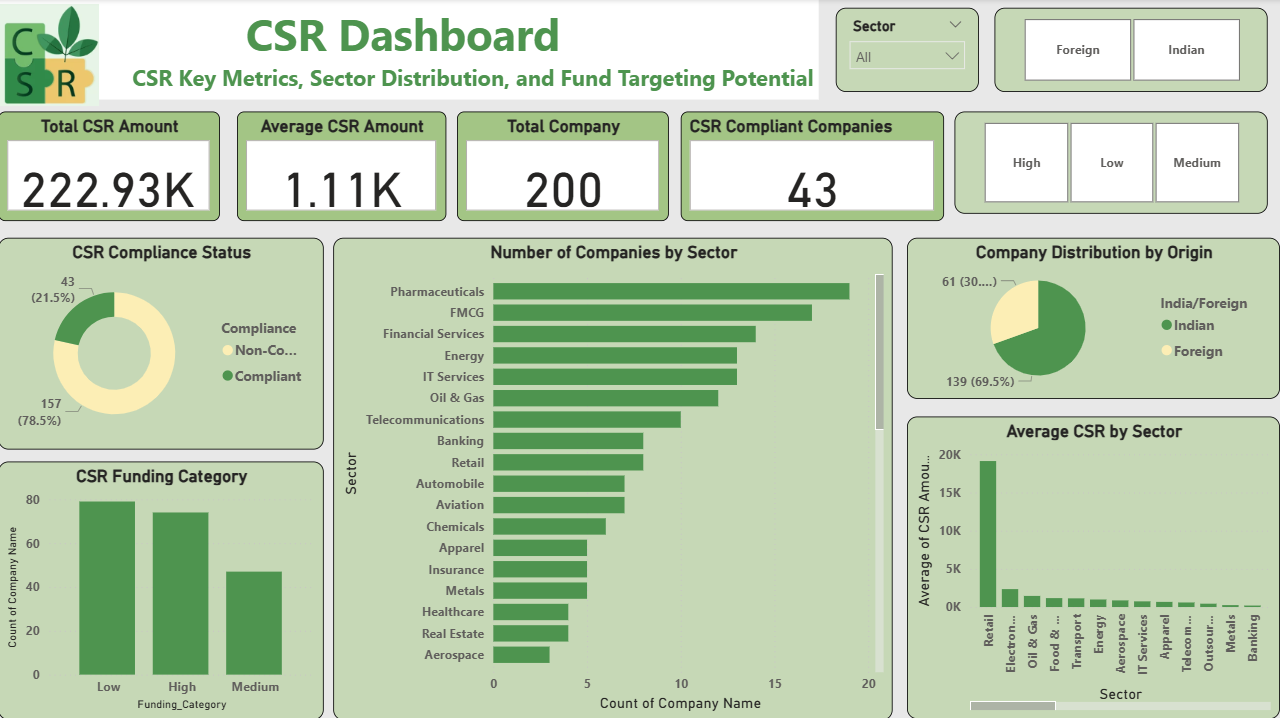

This screenshot's page, from the dashboard's own definition file:
{"tool":"powerbi","page":{"name":"Page 1","canvas":[1280,720],"ordinal":0},"visuals":[{"type":"textbox","box":[0,0,813.7,98.8],"z":0},{"type":"cardVisual","title":"Total CSR Amount","fields":{"Data":["Sum(Sheet1.CSR Amount)"]},"box":[11,109.8,216.8,107],"z":1000},{"type":"cardVisual","title":"Average CSR Amount","fields":{"Data":["Avg(Sheet1.CSR Amount)"]},"box":[244.3,109.8,204.5,107],"z":2000},{"type":"cardVisual","title":"Total Company","fields":{"Data":["CountNonNull(Sheet1.Company Name)"]},"box":[459.7,109.8,207.2,107],"z":3000},{"type":"cardVisual","title":"CSR Compliant Companies","fields":{"Data":["Sum(Sheet1.CSR_Compliance_Status)"]},"box":[679.2,109.8,258,107],"z":4000},{"type":"pieChart","title":"Company Distribution by Origin","fields":{"Y":["CountNonNull(Sheet1.Company Name)"],"Category":["Sheet1.Company_Type"]},"box":[900.2,233.3,365,157.8],"z":5000},{"type":"donutChart","title":"CSR Compliance Status","fields":{"Y":["CountNonNull(Sheet1.Company Name)"],"Category":["Sheet1.Compliance"]},"box":[11,233.3,318.4,207.2],"z":6000},{"type":"clusteredBarChart","title":"Number of Companies by Sector","fields":{"Category":["Sheet1.Sector"],"Y":["CountNonNull(Sheet1.Company Name)"]},"box":[338.9,233.3,547.5,472],"z":7000},{"type":"clusteredColumnChart","title":"CSR Funding Category","fields":{"Category":["Sheet1.Funding_Category"],"Y":["CountNonNull(Sheet1.Company Name)"]},"box":[11,452.8,318.4,252.5],"z":8000},{"type":"clusteredColumnChart","title":"Average CSR  by Sector","fields":{"Category":["Sheet1.Sector"],"Y":["Avg(Sheet1.CSR Amount)"]},"box":[900.2,408.9,365,296.4],"z":9000},{"type":"slicer","fields":{"Values":["Sheet1.Sector"]},"box":[830.2,8.2,140,82.3],"z":10000},{"type":"slicer","fields":{"Values":["Sheet1.Company_Type"]},"box":[985.3,8.2,267.6,82.3],"z":11000},{"type":"slicer","fields":{"Values":["Sheet1.Funding_Category"]},"box":[946.8,109.8,306,100.2],"z":12000},{"type":"image","box":[0,0,119.4,109.8],"z":13000}]}

Visuals, with their boxes in screenshot pixels (x1, y1, x2, y2), scaled from the page's 1280x720 canvas onto the 1280x718 screenshot:
textbox: box(0, 0, 814, 99)
"Total CSR Amount" cardVisual: box(11, 109, 228, 216)
"Average CSR Amount" cardVisual: box(244, 109, 449, 216)
"Total Company" cardVisual: box(460, 109, 667, 216)
"CSR Compliant Companies" cardVisual: box(679, 109, 937, 216)
"Company Distribution by Origin" pieChart: box(900, 233, 1265, 390)
"CSR Compliance Status" donutChart: box(11, 233, 329, 439)
"Number of Companies by Sector" clusteredBarChart: box(339, 233, 886, 703)
"CSR Funding Category" clusteredColumnChart: box(11, 452, 329, 703)
"Average CSR  by Sector" clusteredColumnChart: box(900, 408, 1265, 703)
slicer - Sheet1.Sector: box(830, 8, 970, 90)
slicer - Sheet1.Company_Type: box(985, 8, 1253, 90)
slicer - Sheet1.Funding_Category: box(947, 109, 1253, 209)
image: box(0, 0, 119, 109)
